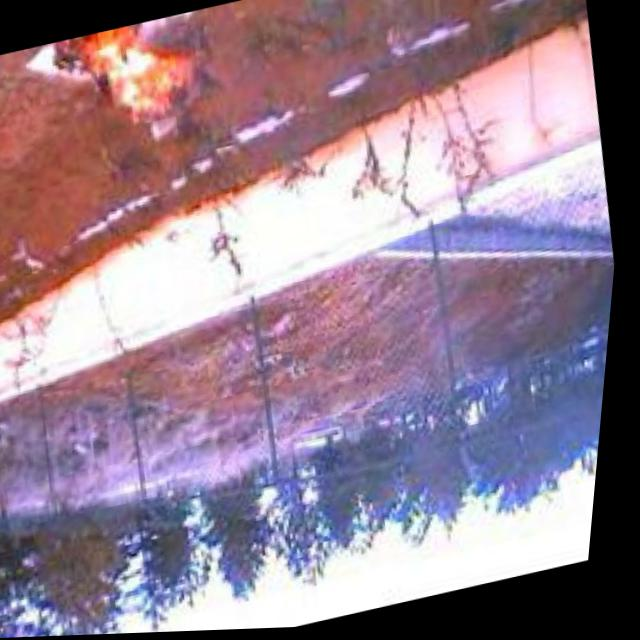Fire: (40, 9, 231, 165)
